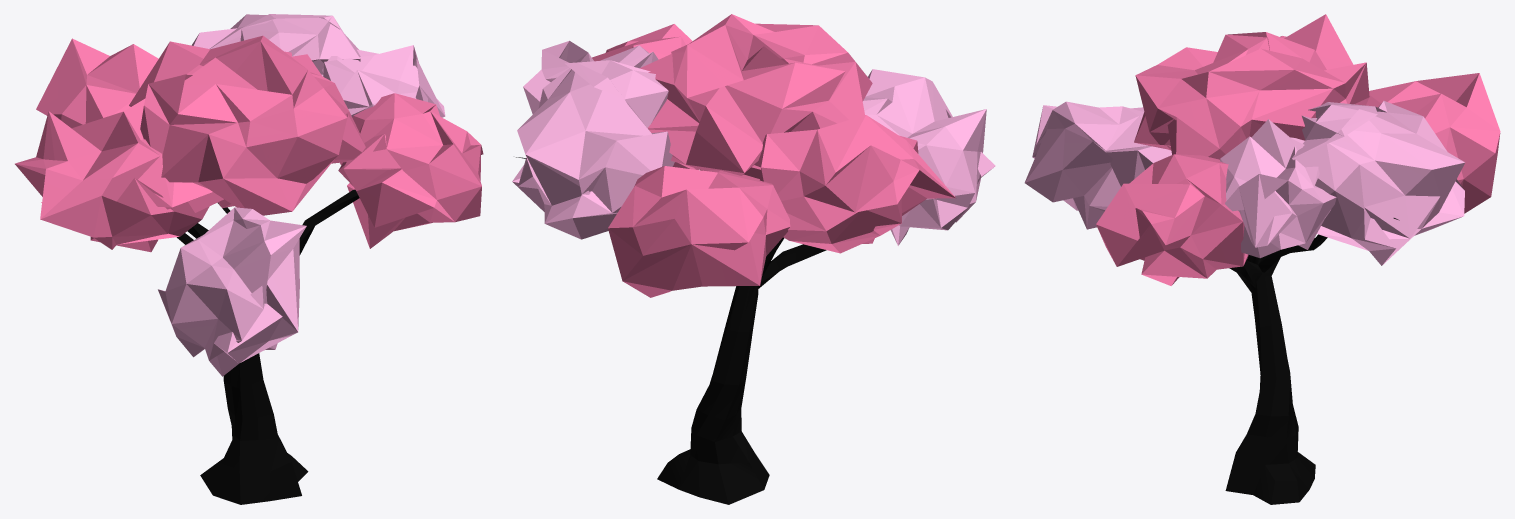
The model's file is Sakura02.fbx.
The picture shows the model from 3 angles, left to right: view 1: azimuth 30°, elevation 25°; view 2: azimuth 150°, elevation 25°; view 3: azimuth 270°, elevation 25°; orthographic projection. The views are drawn at different scales.
Parts seen in each view (by area): view 1: Crown, Trunk; view 2: Crown, Trunk; view 3: Crown, Trunk.
Part boxes in pixels (x1,y1,x2,y2): Crown: (15,14,483,376); Trunk: (177,189,359,504); Crown: (512,14,995,297); Trunk: (516,157,826,504); Crown: (1024,14,1500,285); Trunk: (1225,218,1399,504).
Size of the model in its own units: 267 by 277 by 277.
